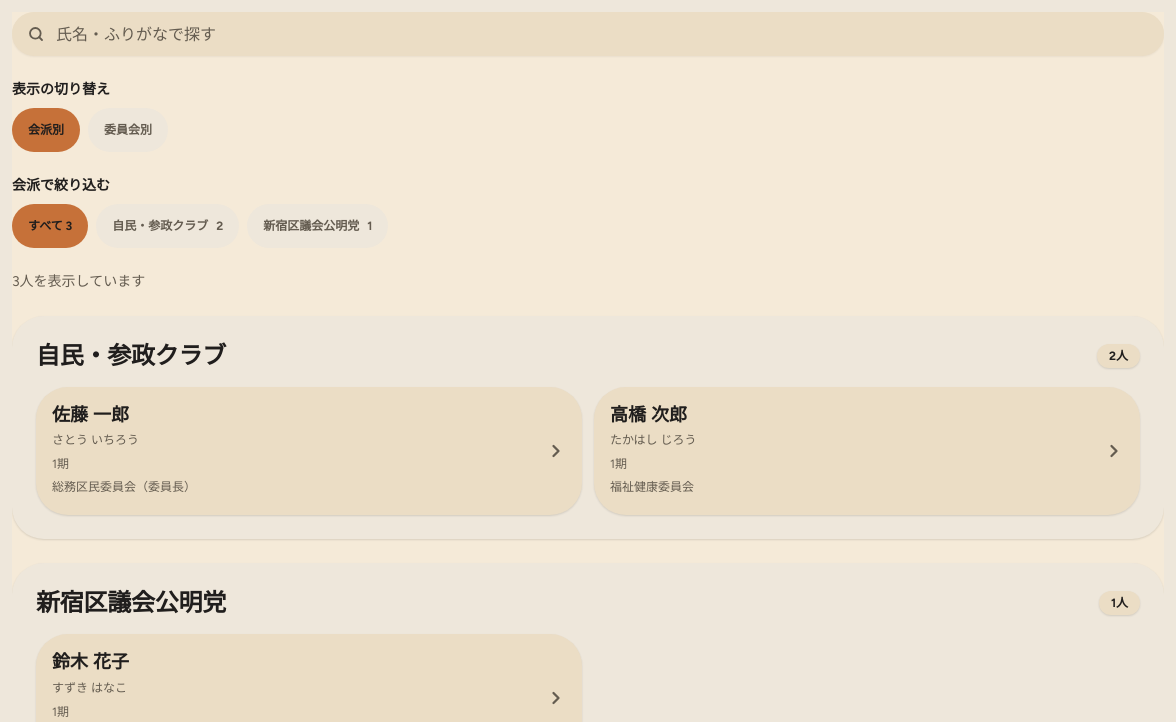
Test: CouncilorListView › 委員会別では委員会ごとのセクションを種別順に出し、件数は重複を除いた人数にする
This screenshot has width=1176, height=722.
Click the button "委員会別". click: x=128, y=130
box: [88,108,168,152]
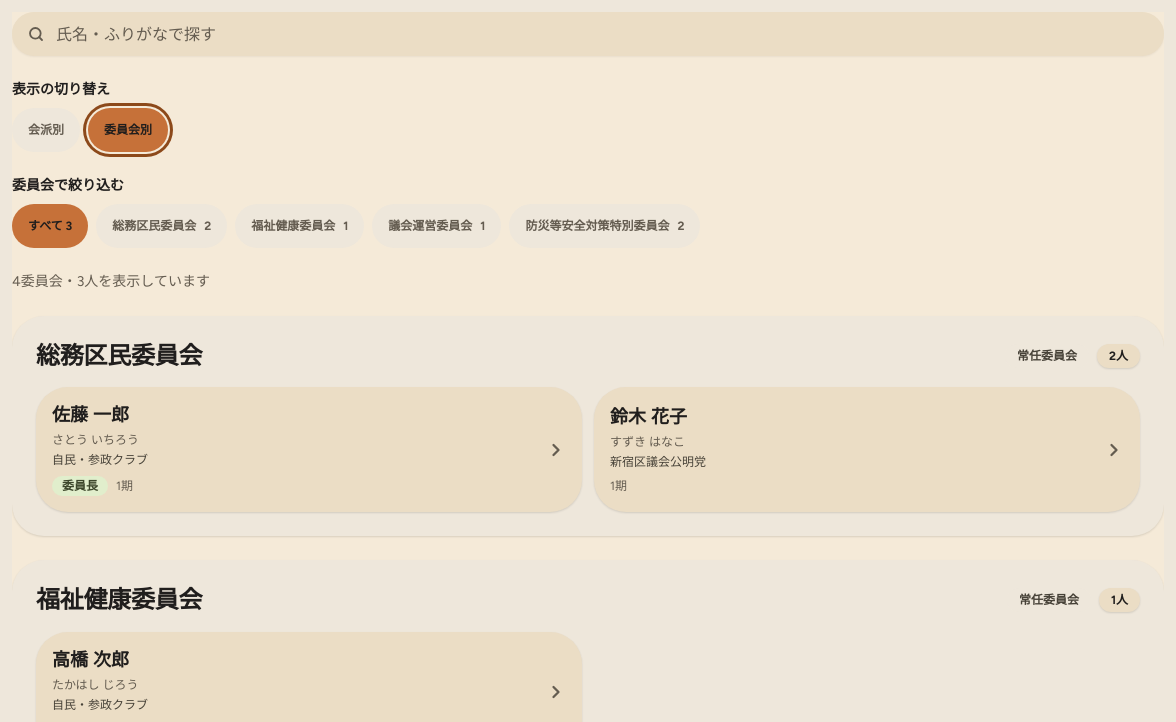
Check: the text "4委員会・3人を表示しています" is shown, box [12,273,210,290]
